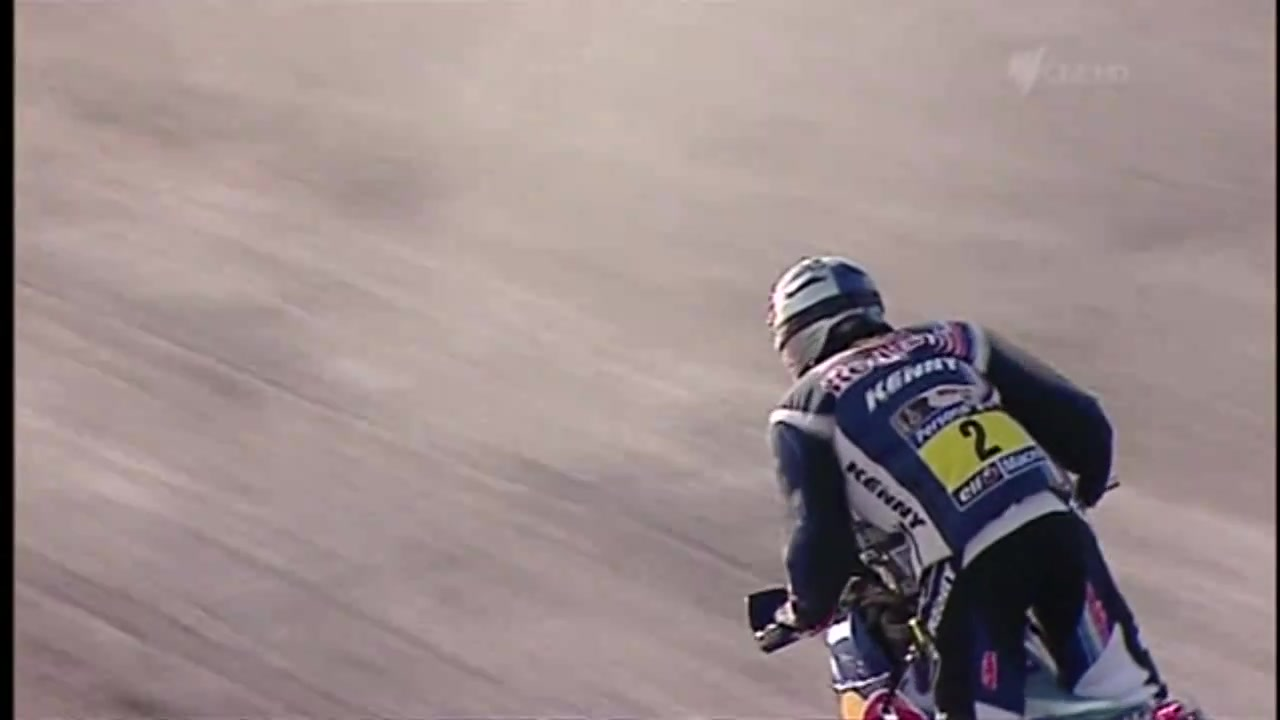motorbike: (742, 470, 1210, 720)
